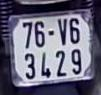2: (53, 49, 67, 78)
3: (24, 52, 37, 81)
4: (39, 50, 53, 79)
6: (69, 16, 82, 45), (34, 19, 46, 48)
7: (20, 20, 33, 49)
9: (71, 46, 83, 77)
V: (57, 17, 67, 46)
